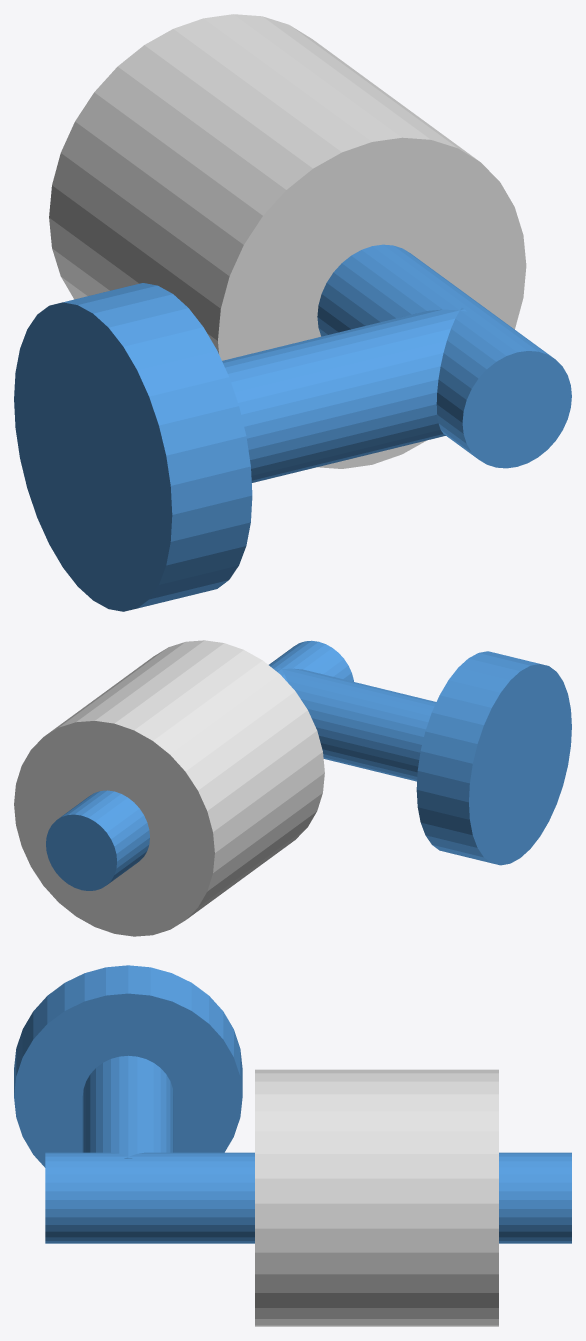
File: Toilet paper.fbx
The picture shows the model from 3 angles, top to bottom: view 1: azimuth 30°, elevation 25°; view 2: azimuth 150°, elevation 25°; view 3: azimuth 270°, elevation 25°; orthographic projection. The views are drawn at different scales.
Visible parts, largest first — view 1: Toilet Paper, Wall thing, Other pole, Paper holder; view 2: Toilet Paper, Wall thing, Other pole, Paper holder; view 3: Toilet Paper, Wall thing, Paper holder, Other pole.
Part boxes in pixels (x1=…): Toilet Paper: x1=49, y1=14, x2=526, y2=468; Wall thing: x1=14, y1=283, x2=252, y2=611; Other pole: x1=222, y1=308, x2=466, y2=482; Paper holder: x1=317, y1=244, x2=571, y2=468; Toilet Paper: x1=14, y1=640, x2=324, y2=936; Wall thing: x1=416, y1=651, x2=571, y2=865; Other pole: x1=277, y1=667, x2=436, y2=781; Paper holder: x1=46, y1=640, x2=353, y2=890; Toilet Paper: x1=255, y1=1069, x2=498, y2=1326; Wall thing: x1=14, y1=965, x2=242, y2=1167; Paper holder: x1=45, y1=1152, x2=571, y2=1243; Other pole: x1=82, y1=1055, x2=173, y2=1158.
Bounding box in the file's own units: 25.34 × 15.01 × 32.55.
